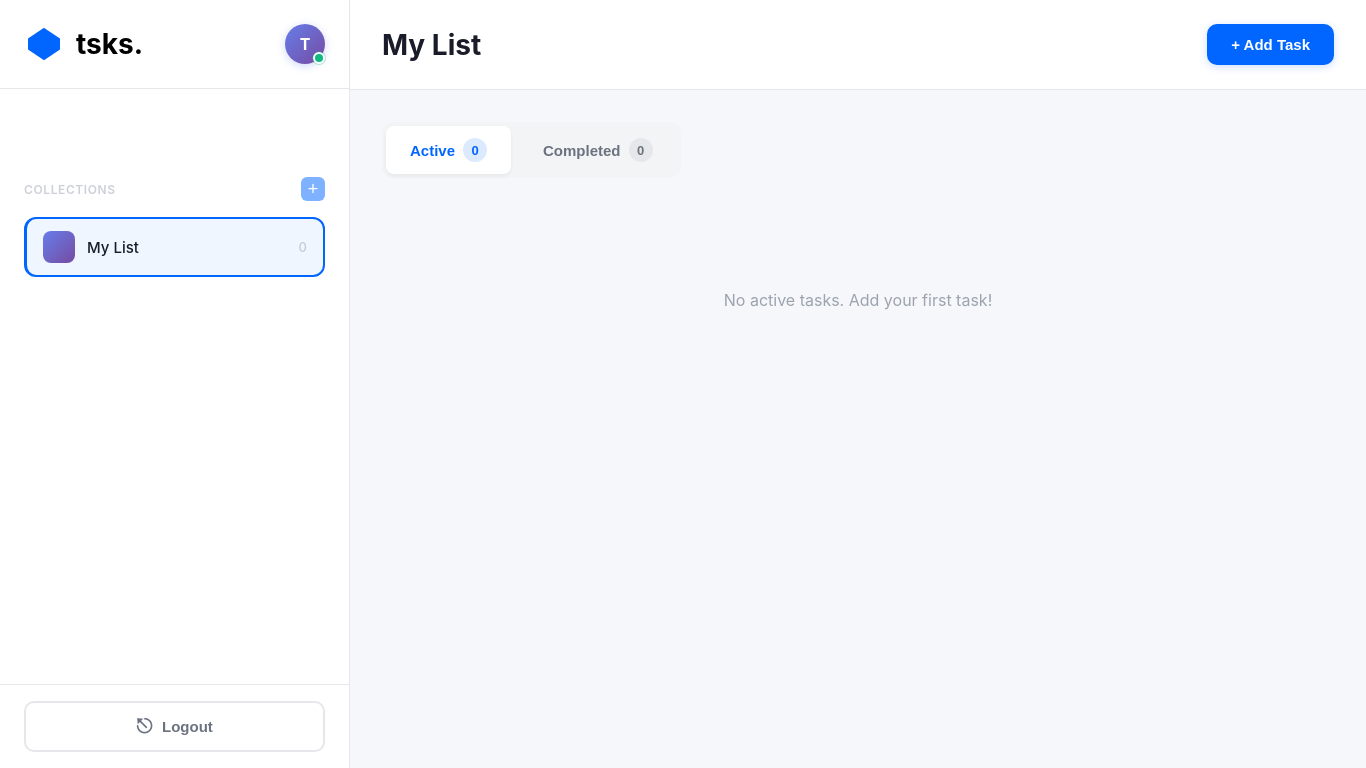
Scenario: Dashboard Component › should open new task modal when Add Task button is clicked
The width and height of the screenshot is (1366, 768).
Click the button "+ Add Task". click: (1271, 44)
box: [1207,24,1334,65]
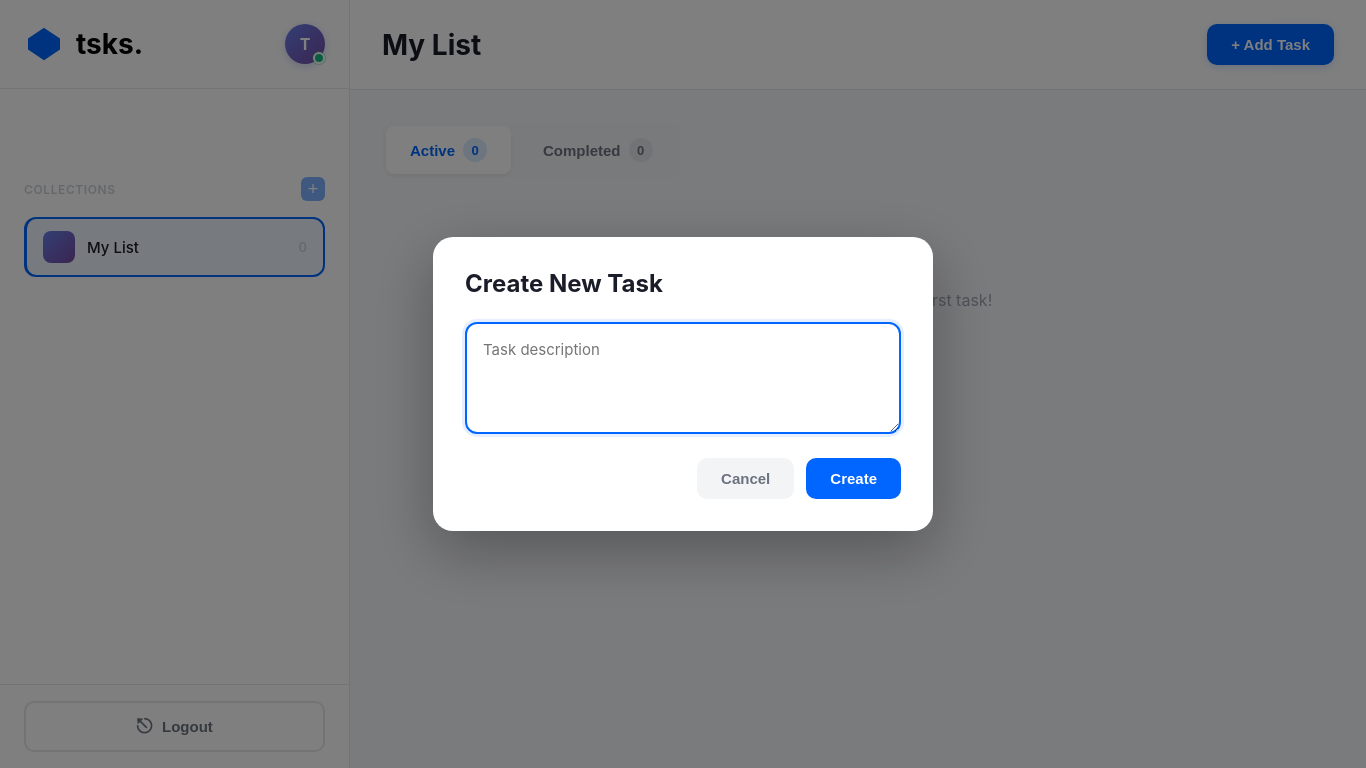
Expected: the heading "Create New Task" is shown, [465,269,663,298]
